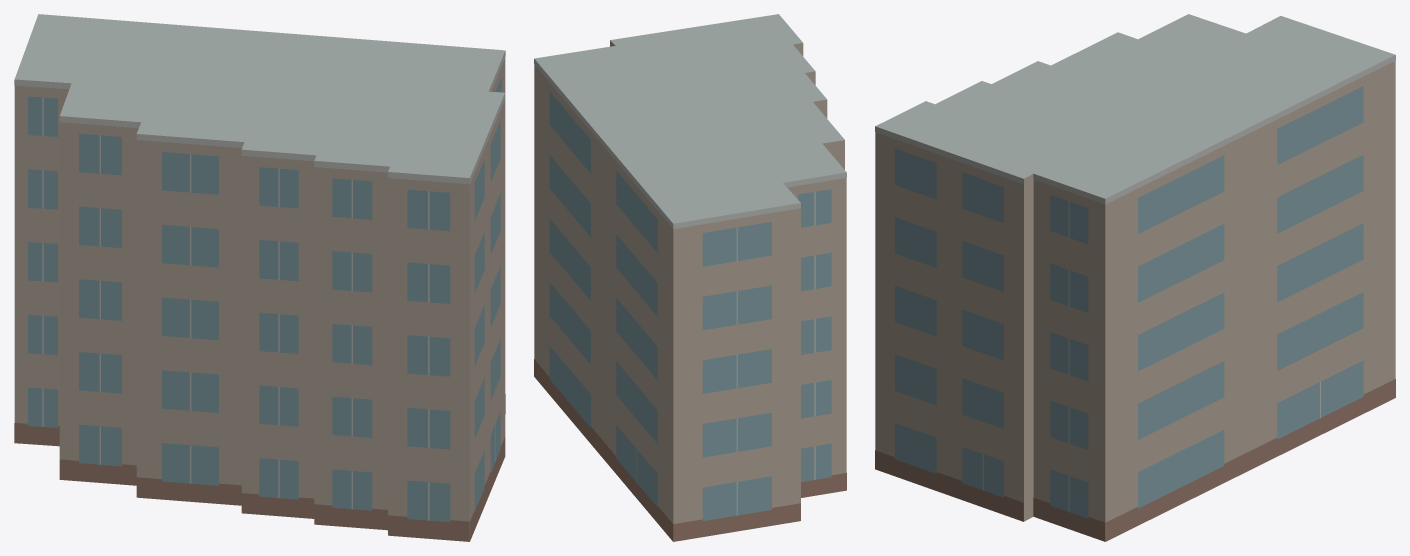
The model's file is survey-upis-32756157.glb.
The picture shows the model from 3 angles, left to right: view 1: azimuth 30°, elevation 25°; view 2: azimuth 150°, elevation 25°; view 3: azimuth 270°, elevation 25°; orthographic projection. The views are drawn at different scales.
Visible parts, largest first — view 1: survey-upis-32756157.tmp; view 2: survey-upis-32756157.tmp; view 3: survey-upis-32756157.tmp.
Boxes of the visible parts, x1,y1,x2,y2 form: survey-upis-32756157.tmp: (14, 14, 505, 541); survey-upis-32756157.tmp: (534, 14, 846, 541); survey-upis-32756157.tmp: (875, 14, 1395, 541).
Bounding box in the file's own units: 16.77 × 14.5 × 19.95.
